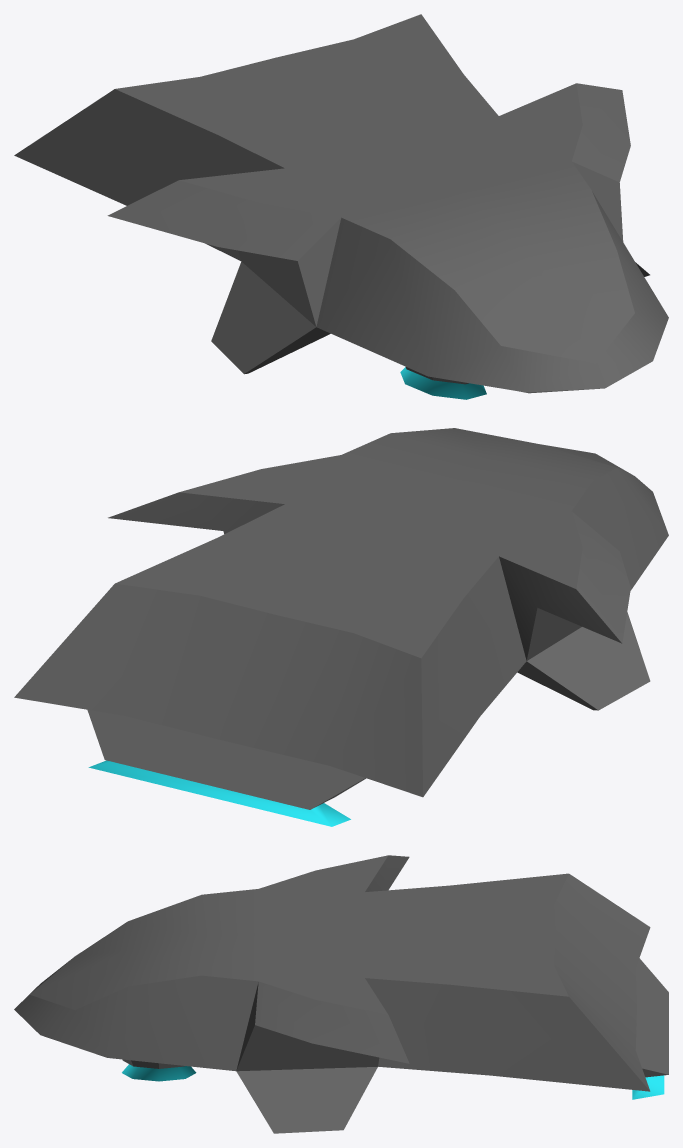
The model's file is CbpTransport A.fbx.
3 views of the same model, one above another, from view 1: azimuth 30°, elevation 25°; view 2: azimuth 150°, elevation 25°; view 3: azimuth 270°, elevation 25° (orthographic). The views are drawn at different scales.
Parts seen in each view (by area): view 1: CbpTransport A; view 2: CbpTransport A; view 3: CbpTransport A.
Part boxes in pixels (box(x1,y1,x2,y2)): CbpTransport A: box(14, 14, 668, 399); CbpTransport A: box(14, 428, 668, 826); CbpTransport A: box(14, 855, 668, 1133).
Size of the model in its own units: 4.51 by 1.2 by 6.03.
